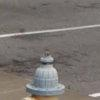Hydrant: (23, 39, 68, 100)
